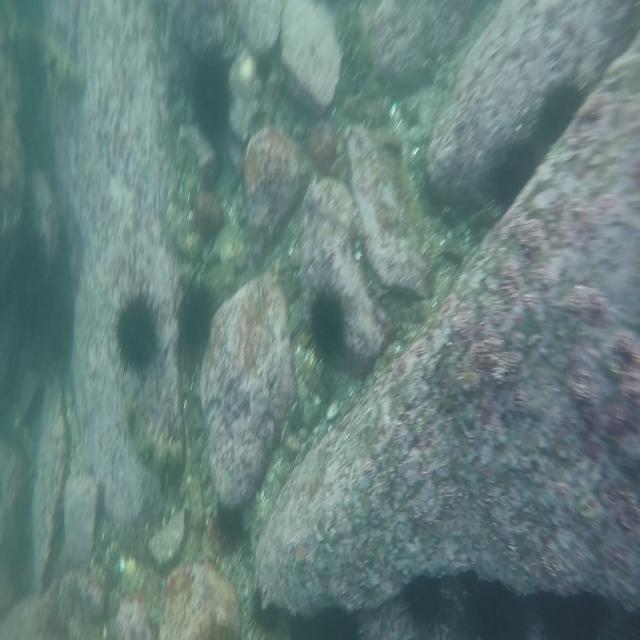echinus: (184, 51, 236, 133), (113, 290, 160, 368), (467, 572, 523, 637), (534, 80, 584, 148), (304, 285, 346, 358), (548, 579, 596, 640), (492, 142, 537, 206), (176, 281, 222, 343), (395, 564, 438, 624), (215, 494, 251, 552), (246, 582, 284, 632)
